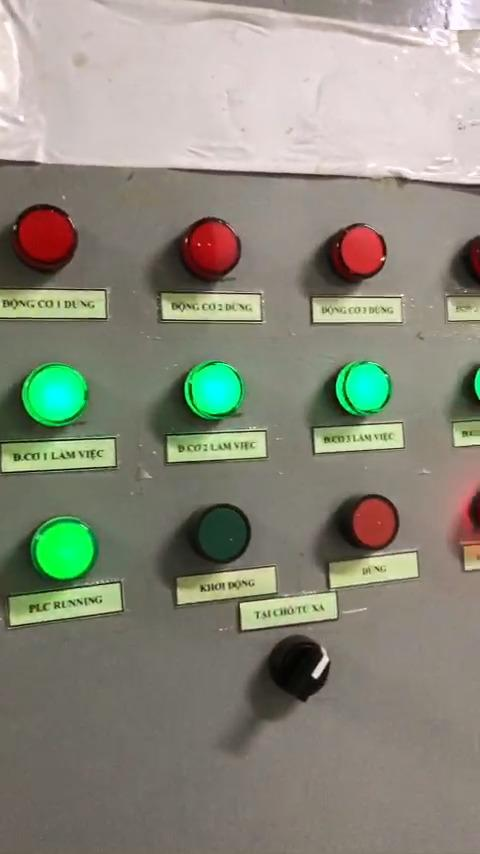led: (13, 363, 90, 431), (172, 215, 244, 281), (188, 499, 255, 566), (28, 515, 95, 582), (178, 355, 244, 422), (11, 205, 76, 271), (329, 356, 393, 421), (328, 219, 390, 285), (339, 491, 401, 551)
twist: (269, 632, 339, 700)
